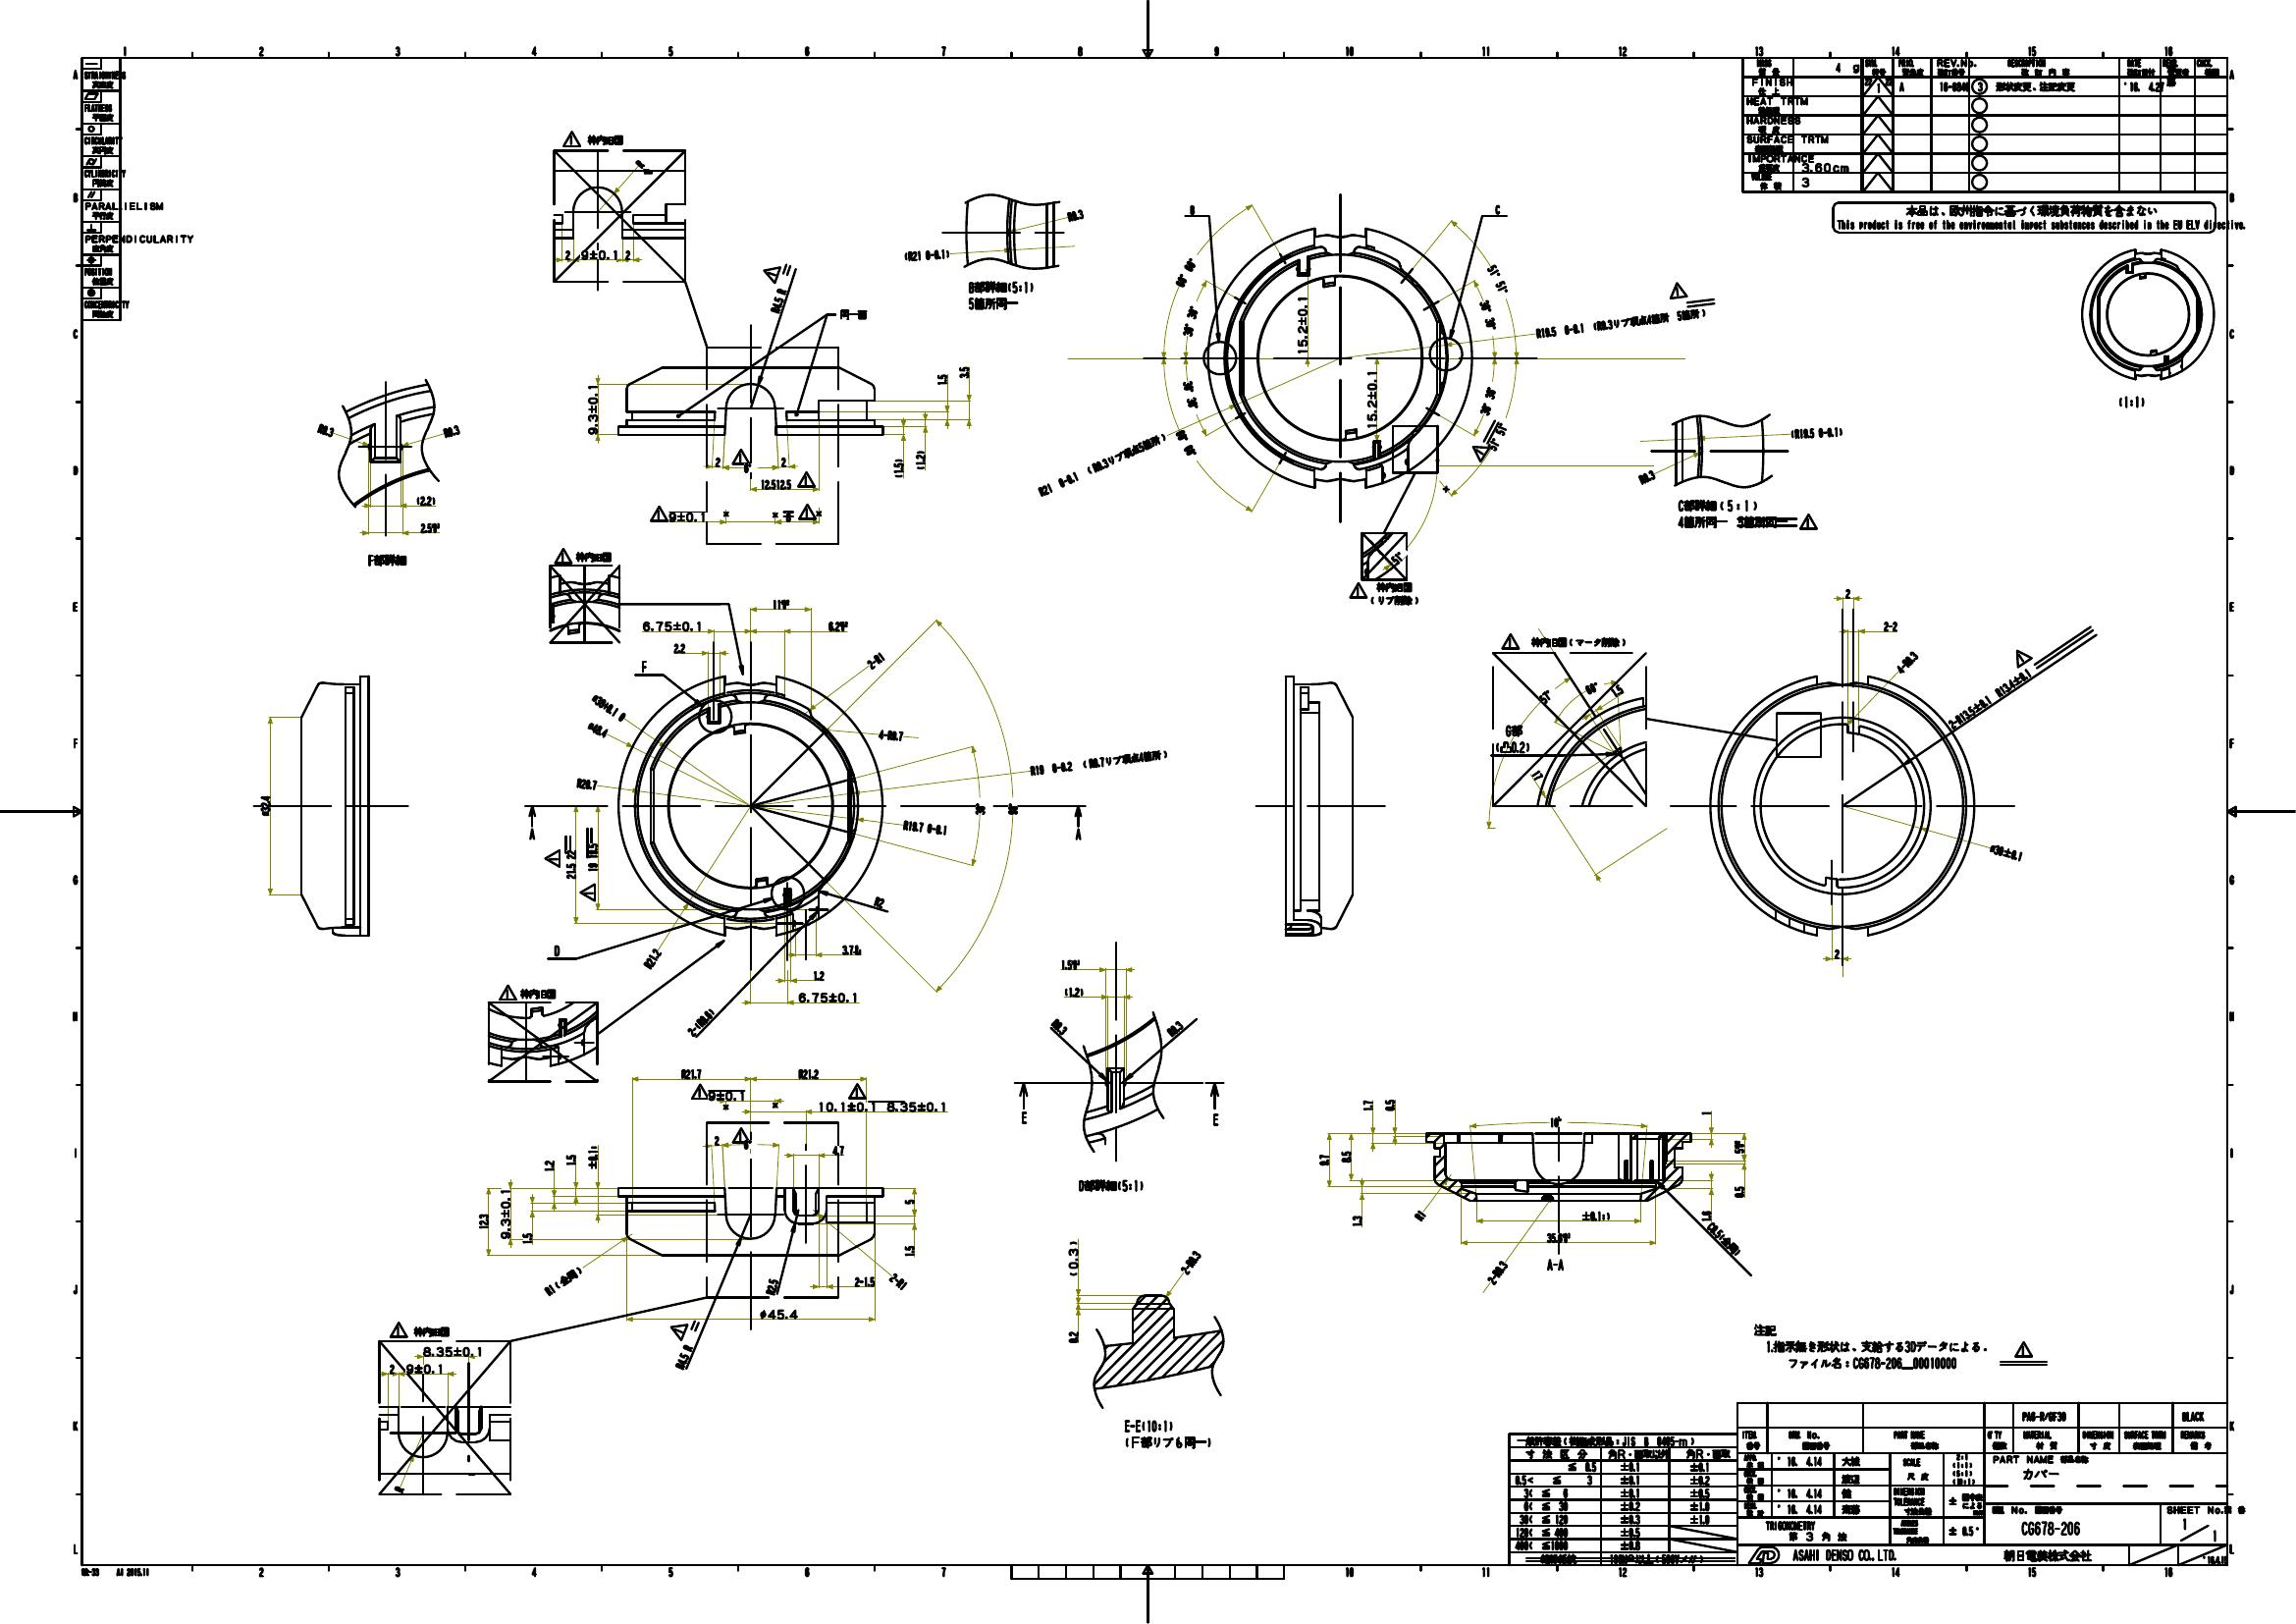anntotation_text: (1832, 200, 2247, 236), (1755, 1320, 2048, 1369), (1676, 513, 1818, 531), (1500, 633, 1627, 649), (1347, 582, 1418, 606), (1124, 1434, 1212, 1450), (1676, 497, 1758, 513), (560, 130, 624, 148), (388, 1320, 450, 1338), (552, 547, 613, 564), (966, 279, 1033, 295), (1077, 1178, 1144, 1193), (497, 984, 555, 1000), (1123, 1418, 1173, 1434), (970, 295, 1019, 311), (79, 1568, 149, 1577), (365, 554, 408, 566), (729, 1125, 754, 1144), (838, 306, 868, 322), (796, 469, 817, 489), (578, 882, 597, 902), (847, 1081, 866, 1100), (689, 1083, 708, 1102), (1667, 281, 1688, 299), (545, 847, 562, 868), (1469, 441, 1490, 459), (1504, 722, 1525, 740), (2117, 395, 2145, 408), (729, 448, 748, 466), (762, 262, 780, 281), (648, 504, 668, 522), (798, 503, 815, 520), (669, 1322, 687, 1338), (1544, 1257, 1563, 1271), (527, 826, 538, 842), (639, 657, 648, 675), (552, 944, 562, 958), (1212, 1111, 1221, 1127), (1073, 826, 1082, 842), (1493, 204, 1502, 214), (1021, 1109, 1026, 1123)
dimension_text: (1534, 316, 1706, 329), (1031, 457, 1172, 471), (1026, 758, 1168, 768), (1939, 692, 2040, 705), (1295, 294, 1309, 355), (885, 1100, 949, 1113), (1790, 425, 1845, 439), (1365, 367, 1377, 429), (641, 620, 703, 633), (798, 991, 859, 1004), (497, 1186, 511, 1239), (422, 1345, 481, 1357), (903, 821, 947, 835), (817, 1100, 875, 1111), (901, 250, 950, 262), (587, 701, 627, 715), (404, 1360, 444, 1374), (1700, 1232, 1746, 1244), (539, 1274, 583, 1287), (587, 383, 597, 434), (757, 1308, 798, 1320), (1172, 315, 1207, 329), (1168, 265, 1203, 279), (1495, 740, 1530, 754), (580, 248, 618, 260), (1066, 1239, 1079, 1278), (683, 1016, 720, 1028), (1481, 429, 1513, 443), (585, 842, 599, 874), (1479, 272, 1514, 285), (1989, 845, 2024, 858), (1472, 309, 1505, 322), (669, 1350, 697, 1364), (1472, 394, 1504, 406), (1173, 388, 1205, 401), (761, 478, 792, 490), (564, 849, 576, 881), (1579, 1209, 1611, 1222), (708, 1091, 745, 1102), (669, 511, 704, 522), (1170, 438, 1200, 450), (764, 295, 792, 308), (416, 520, 441, 534), (1483, 1267, 1511, 1280), (1544, 1230, 1572, 1243), (850, 1274, 875, 1288), (587, 1142, 599, 1171), (314, 422, 336, 438), (1894, 656, 1920, 668), (912, 448, 926, 471), (891, 457, 905, 480), (840, 942, 863, 956), (877, 729, 906, 740), (1175, 1257, 1205, 1267), (824, 619, 848, 631), (573, 777, 597, 789), (639, 953, 664, 965), (1049, 1019, 1070, 1033), (864, 654, 887, 666), (1732, 1137, 1746, 1156), (441, 425, 462, 438), (1059, 958, 1080, 970), (1063, 984, 1084, 997), (678, 1067, 703, 1077), (796, 1069, 820, 1079), (1535, 689, 1551, 705), (1066, 207, 1084, 221), (762, 1280, 780, 1294), (587, 724, 610, 735), (260, 794, 271, 817), (771, 598, 791, 610), (415, 496, 436, 506), (1339, 1149, 1353, 1165), (1066, 1329, 1080, 1345), (887, 1276, 908, 1287), (478, 1211, 490, 1229), (1165, 1023, 1184, 1033), (973, 801, 987, 816), (1005, 801, 1019, 816), (1732, 1185, 1746, 1199), (1699, 1209, 1713, 1223), (520, 1230, 534, 1244), (541, 1158, 555, 1172), (1609, 684, 1623, 698), (671, 642, 687, 654), (1318, 1151, 1330, 1167), (1639, 471, 1657, 482), (1881, 620, 1899, 631), (1360, 1097, 1372, 1111), (1383, 1098, 1395, 1113), (1351, 1213, 1363, 1227), (831, 1144, 845, 1156), (1585, 680, 1597, 694), (957, 366, 970, 378), (812, 968, 824, 981), (564, 1153, 576, 1165), (936, 373, 947, 387), (873, 895, 884, 909), (1549, 1114, 1560, 1128), (903, 1243, 913, 1257), (1532, 768, 1542, 782), (1414, 1209, 1425, 1222), (713, 455, 722, 468), (622, 248, 631, 260), (393, 1485, 406, 1494), (1843, 587, 1852, 599), (1700, 1109, 1713, 1116), (388, 1362, 395, 1374), (1832, 947, 1839, 960), (778, 457, 787, 466), (1189, 204, 1196, 214), (564, 250, 571, 260), (713, 1135, 720, 1146), (903, 1199, 915, 1204)
object: (1200, 225, 1474, 489), (1708, 673, 1976, 939), (615, 675, 884, 935), (617, 1120, 884, 1301), (1423, 1128, 1692, 1202), (615, 364, 884, 436), (299, 675, 371, 939), (1282, 675, 1354, 937), (2080, 248, 2215, 381), (1089, 1292, 1224, 1413), (337, 380, 439, 508), (1535, 698, 1646, 807), (1080, 1011, 1163, 1153), (550, 169, 687, 241), (379, 1403, 511, 1475), (1671, 413, 1774, 489), (963, 193, 1059, 271), (488, 1002, 597, 1069), (548, 573, 620, 636), (1363, 533, 1405, 578)
title_block: (1507, 1401, 2227, 1568), (1739, 56, 2227, 193), (79, 56, 123, 322)
